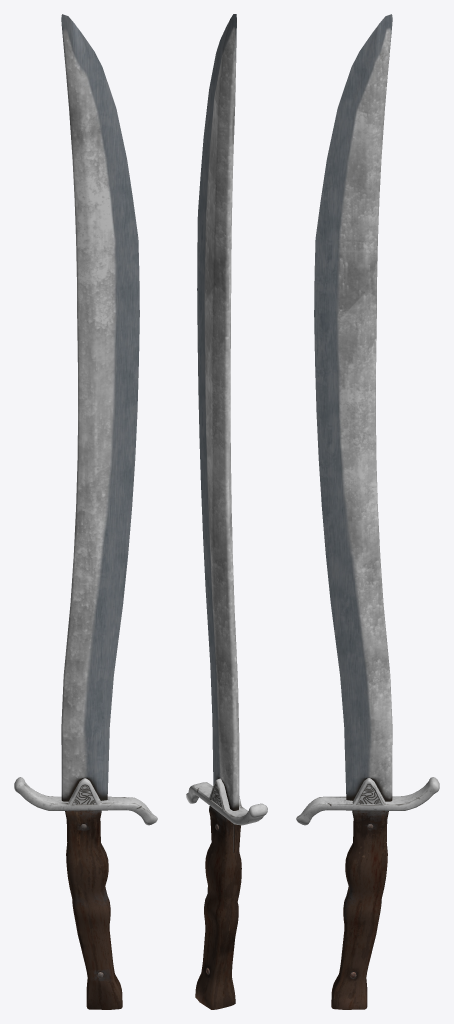
The model's file is wooden_handle_saber_1k.glb.
The picture shows the model from 3 angles, left to right: view 1: azimuth 90°, elevation 25°; view 2: azimuth 210°, elevation 25°; view 3: azimuth 270°, elevation 25°; orthographic projection.
Parts seen in each view (by area): view 1: wooden_handle_saber; view 2: wooden_handle_saber; view 3: wooden_handle_saber.
Part boxes in pixels (left/top/right/bottom): wooden_handle_saber: left=14, top=14, right=157, bottom=1009; wooden_handle_saber: left=186, top=14, right=267, bottom=1009; wooden_handle_saber: left=296, top=14, right=439, bottom=1009.
Size of the model in its own units: 0.0257 by 0.9355 by 0.1228.
Materials: 1 (1 with a texture image).
